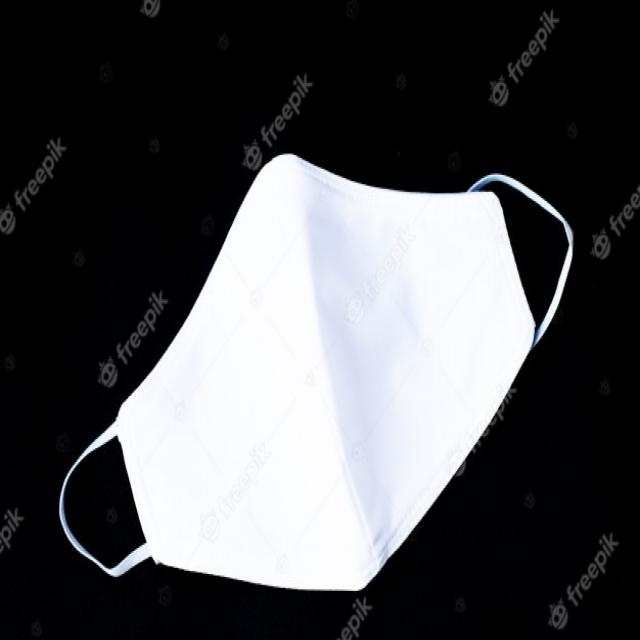non-organic waste: (54, 150, 578, 597)
